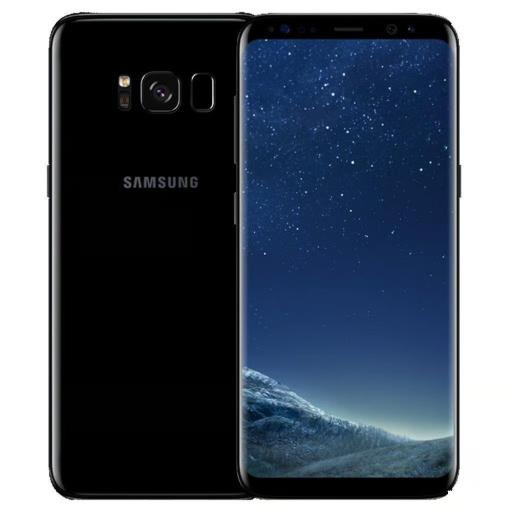phone: (238, 14, 465, 502)
